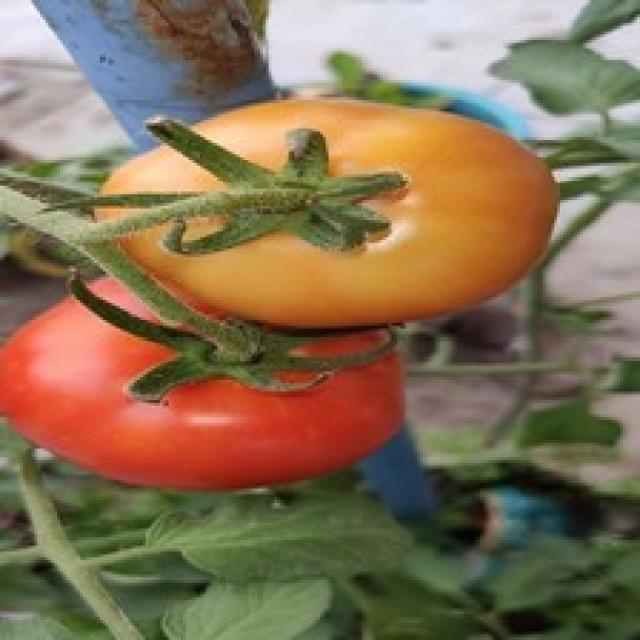tomato: (102, 116, 548, 329), (7, 277, 415, 486)
